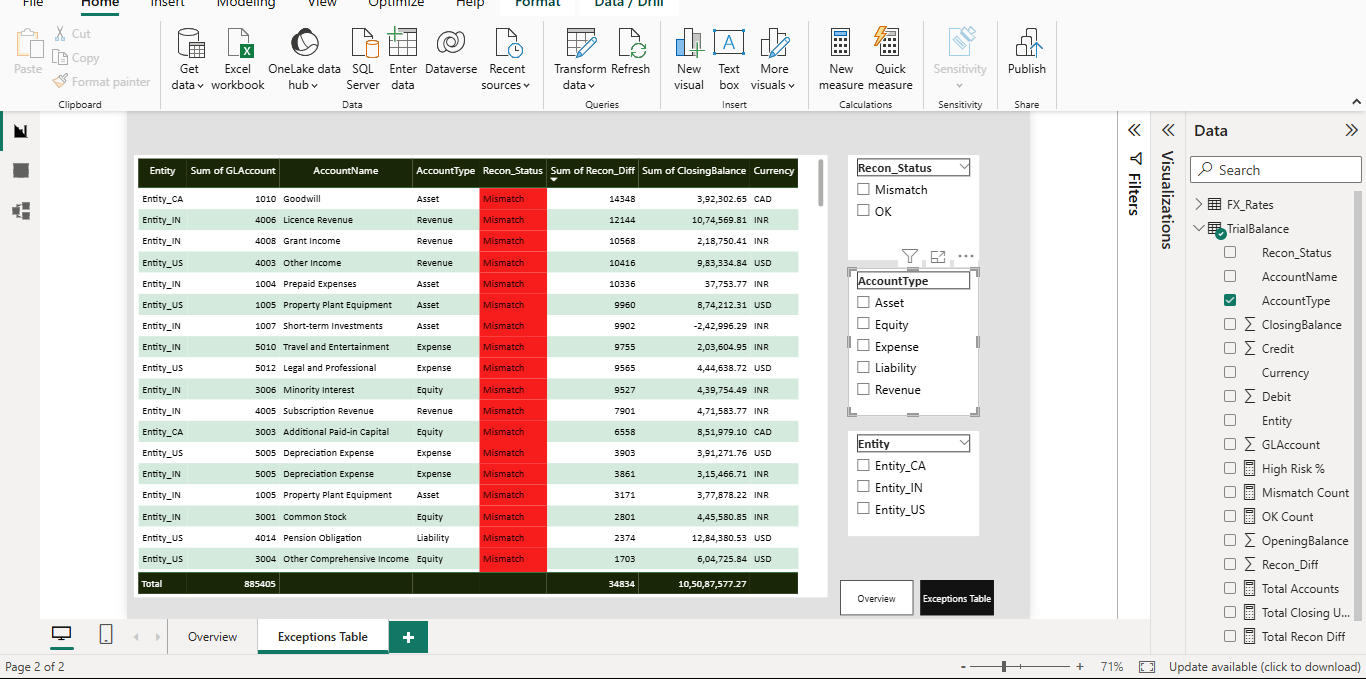

This screenshot's page, from the dashboard's own definition file:
{"tool":"powerbi","page":{"name":"Exceptions Table","canvas":[1280,720],"ordinal":1},"visuals":[{"type":"tableEx","fields":{"Values":["TrialBalance.Entity","Sum(TrialBalance.GLAccount)","TrialBalance.AccountName","TrialBalance.AccountType","TrialBalance. Recon_Status","Sum(TrialBalance.Recon_Diff)","Sum(TrialBalance.ClosingBalance)","TrialBalance.Currency"]},"box":[10.1,62.1,983.1,627.4],"z":0},{"type":"slicer","fields":{"Values":["TrialBalance. Recon_Status"]},"box":[1021.7,62.1,186.2,149.3],"z":1},{"type":"slicer","fields":{"Values":["TrialBalance.AccountType"]},"box":[1021.7,223.1,186.2,209.7],"z":2},{"type":"slicer","fields":{"Values":["TrialBalance.Entity"]},"box":[1021.7,452.9,186.2,149.3],"z":3},{"type":"pageNavigator","box":[1009.9,664.3,219.8,50.3],"z":4}]}

Visuals, with their boxes on the page's 1280x720 design canvas (x1, y1, x2, y2). These are canvas units, not pixel positions in the 1366x679 screenshot, which may show the page scaled, cropped or inside an application window:
tableEx - TrialBalance.Entity x Sum(TrialBalance.GLAccount): [10, 62, 993, 690]
slicer - TrialBalance. Recon_Status: [1022, 62, 1208, 211]
slicer - TrialBalance.AccountType: [1022, 223, 1208, 433]
slicer - TrialBalance.Entity: [1022, 453, 1208, 602]
pageNavigator: [1010, 664, 1230, 715]
